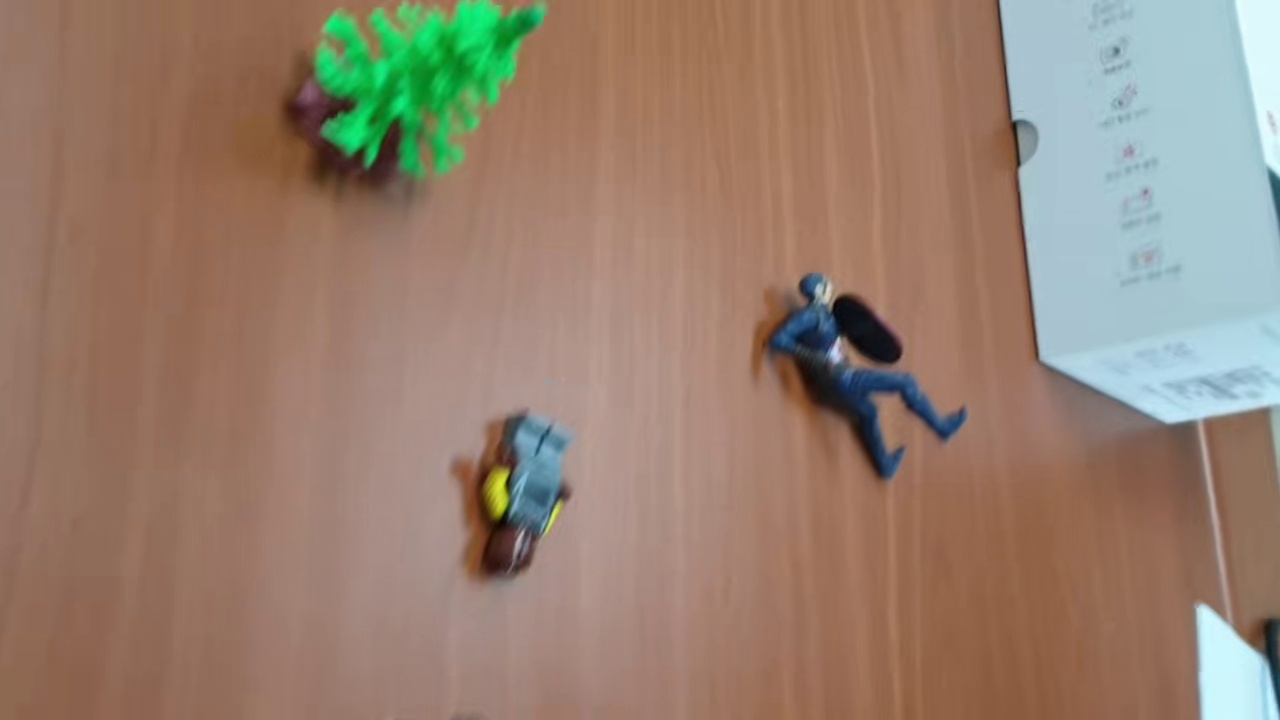people: (764, 271, 971, 483), (472, 409, 574, 584)
tree: (280, 1, 551, 193)
